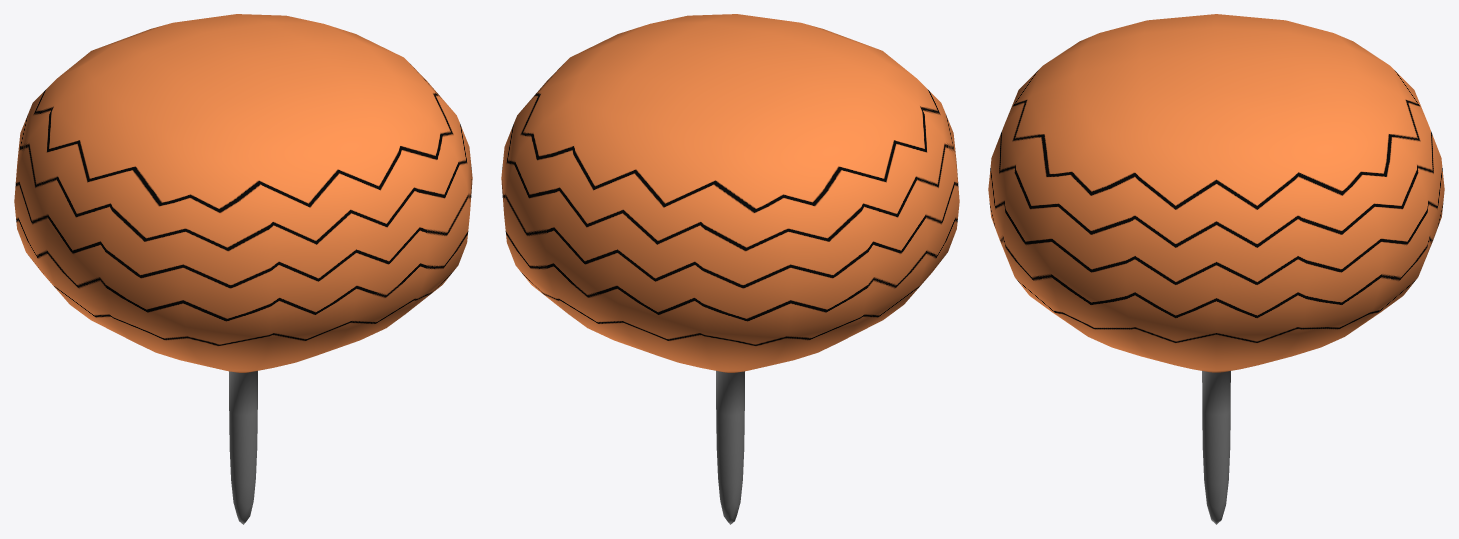
Rendered from Turumpo_Player_V1.fbx.
3 renders of one model, left to right at view 1: azimuth 30°, elevation 25°; view 2: azimuth 150°, elevation 25°; view 3: azimuth 270°, elevation 25°, orthographic.
Parts seen in each view (by area): view 1: Cube; view 2: Cube; view 3: Cube.
Part boxes in pixels (x1,y1,x2,y2): Cube: (14,14,472,524); Cube: (501,14,959,524); Cube: (988,14,1444,524).
Size of the model in its own units: 84.13 by 95.56 by 84.13.
Materials: 3 (1 with a texture image).
